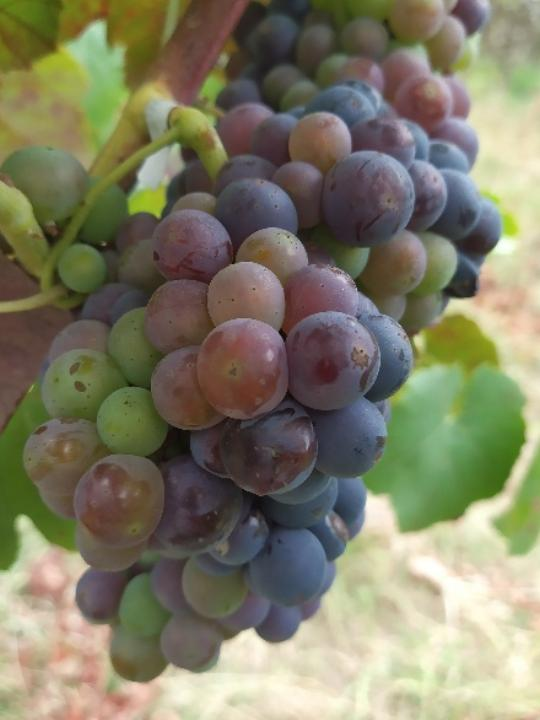grape: (18, 83, 506, 688)
